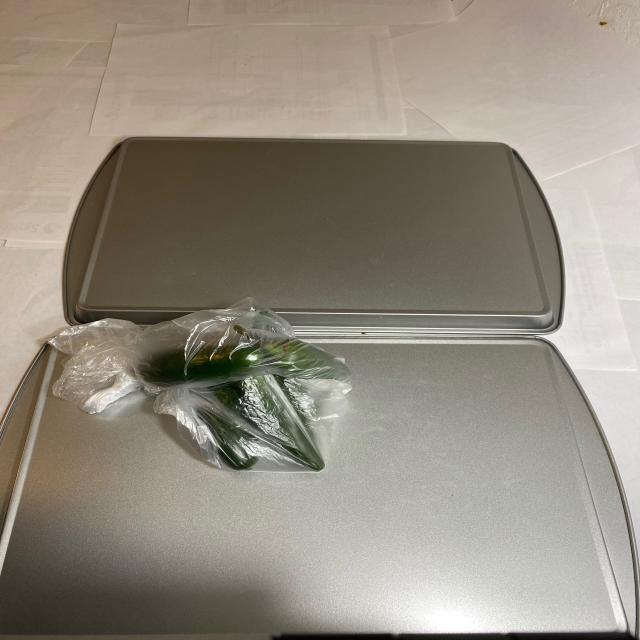chilli: (126, 312, 353, 482)
